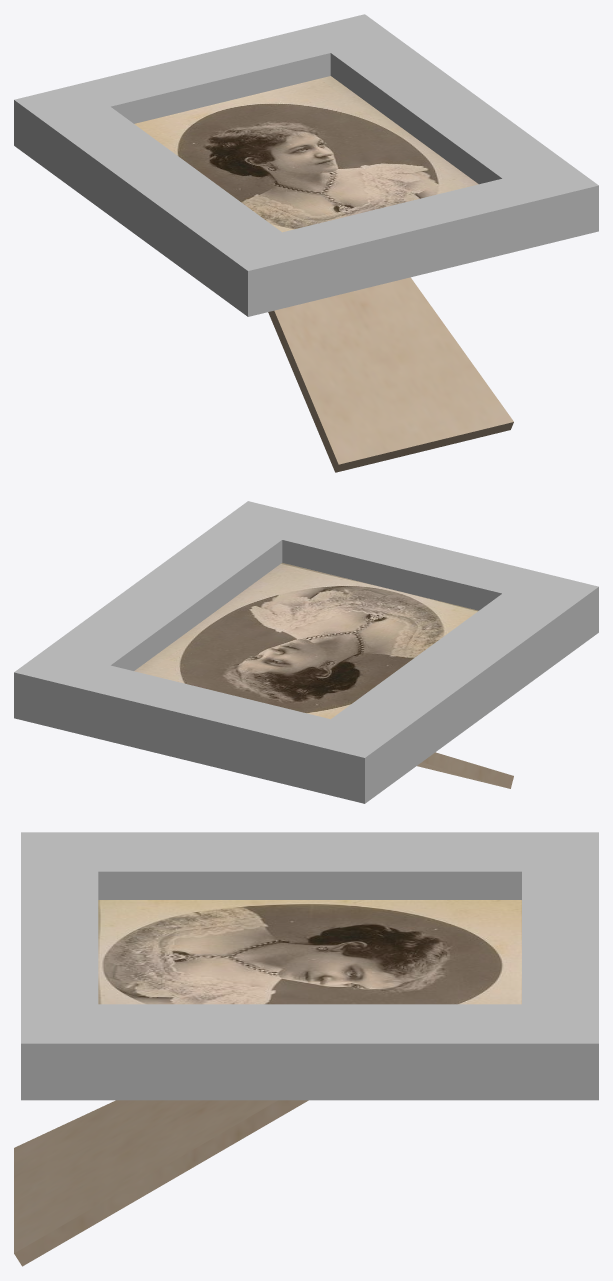
File: PictureFrameC.fbx
3 renders of one model, top to bottom at view 1: azimuth 30°, elevation 25°; view 2: azimuth 150°, elevation 25°; view 3: azimuth 270°, elevation 25°, orthographic. The views are drawn at different scales.
Visible parts, largest first — view 1: Cube; view 2: Cube; view 3: Cube.
Boxes of the visible parts, <box> form: Cube: <box>14,14,598,472</box>; Cube: <box>14,501,598,803</box>; Cube: <box>14,832,598,1266</box>.
Bounding box in the file's own units: 0.2 × 0.1217 × 0.2339.
